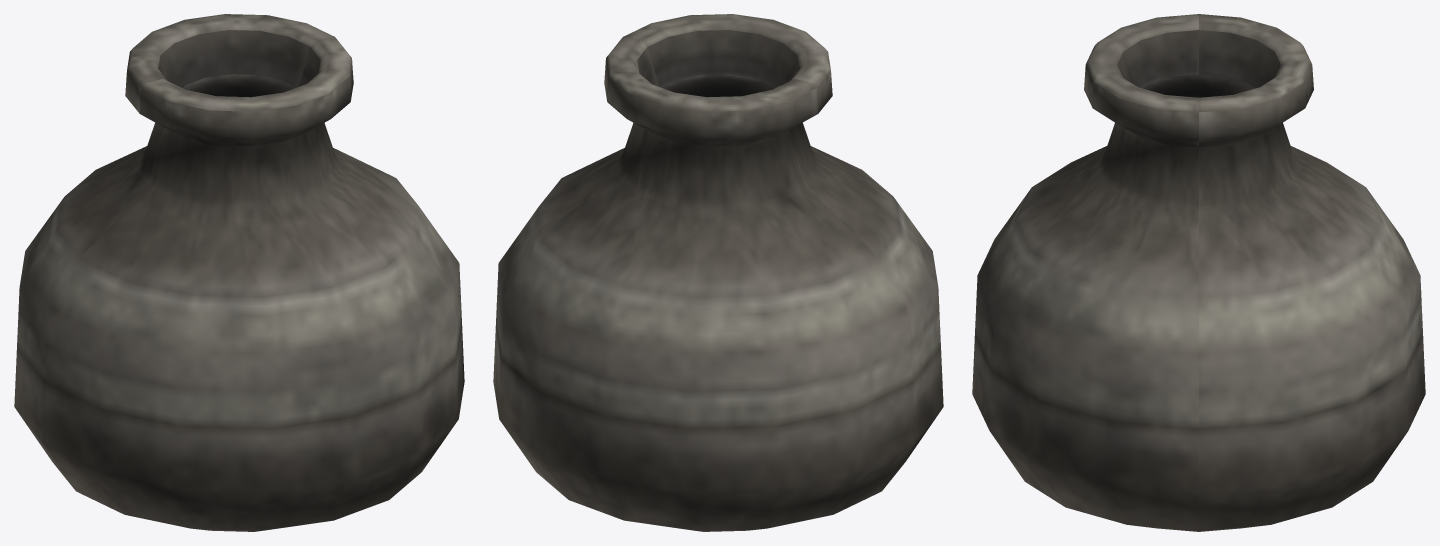
The model's file is Pot_LowPoly.fbx.
3 renders of one model, left to right at view 1: azimuth 30°, elevation 25°; view 2: azimuth 150°, elevation 25°; view 3: azimuth 270°, elevation 25°, orthographic.
Visible parts, largest first — view 1: pot:Mesh; view 2: pot:Mesh; view 3: pot:Mesh.
Part boxes in pixels (box(x1,y1,x2,y2)): pot:Mesh: box(14, 14, 464, 531); pot:Mesh: box(493, 14, 943, 531); pot:Mesh: box(972, 14, 1425, 531).
Bounding box in the file's own units: 1.98 × 2.05 × 1.98.
